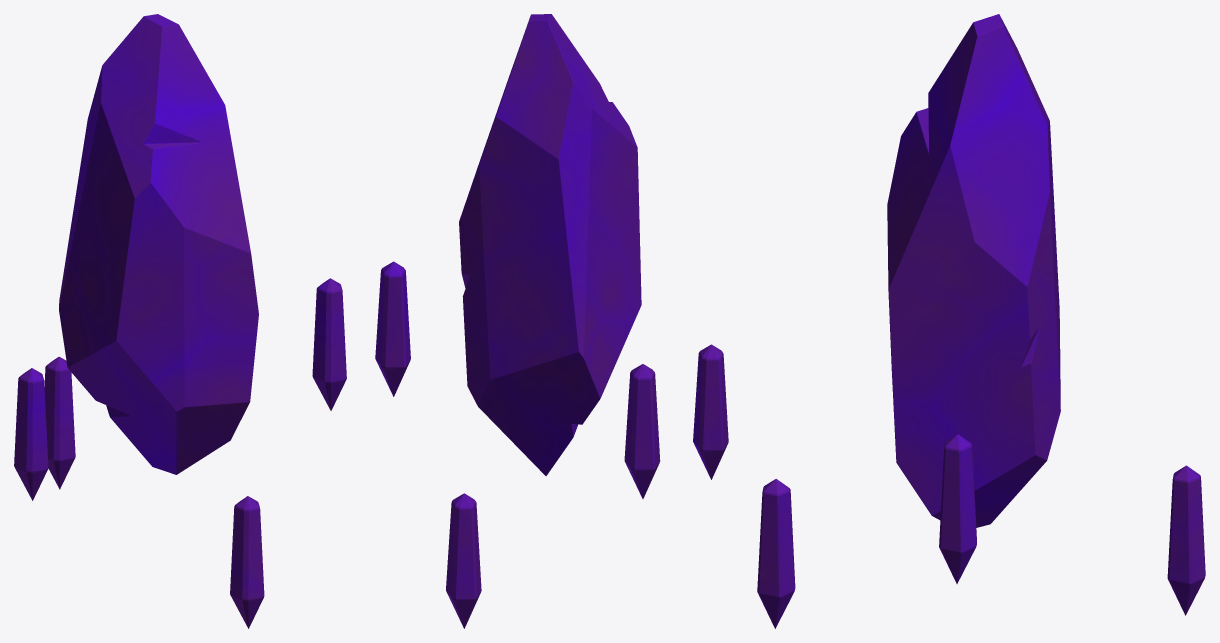
Rendered from crystal.003.fbx.
3 views of the same model, side by side, from view 1: azimuth 30°, elevation 25°; view 2: azimuth 150°, elevation 25°; view 3: azimuth 270°, elevation 25° (orthographic). The views are drawn at different scales.
Visible parts, largest first — view 1: crystal.003_Baked; view 2: crystal.003_Baked; view 3: crystal.003_Baked.
Boxes of the visible parts, x1,y1,x2,y2 form: crystal.003_Baked: (14,14,346,628); crystal.003_Baked: (375,14,728,628); crystal.003_Baked: (757,14,1205,628).
Bounding box in the file's own units: 52.5 × 81.01 × 53.82.
1 material, 1 textured.
